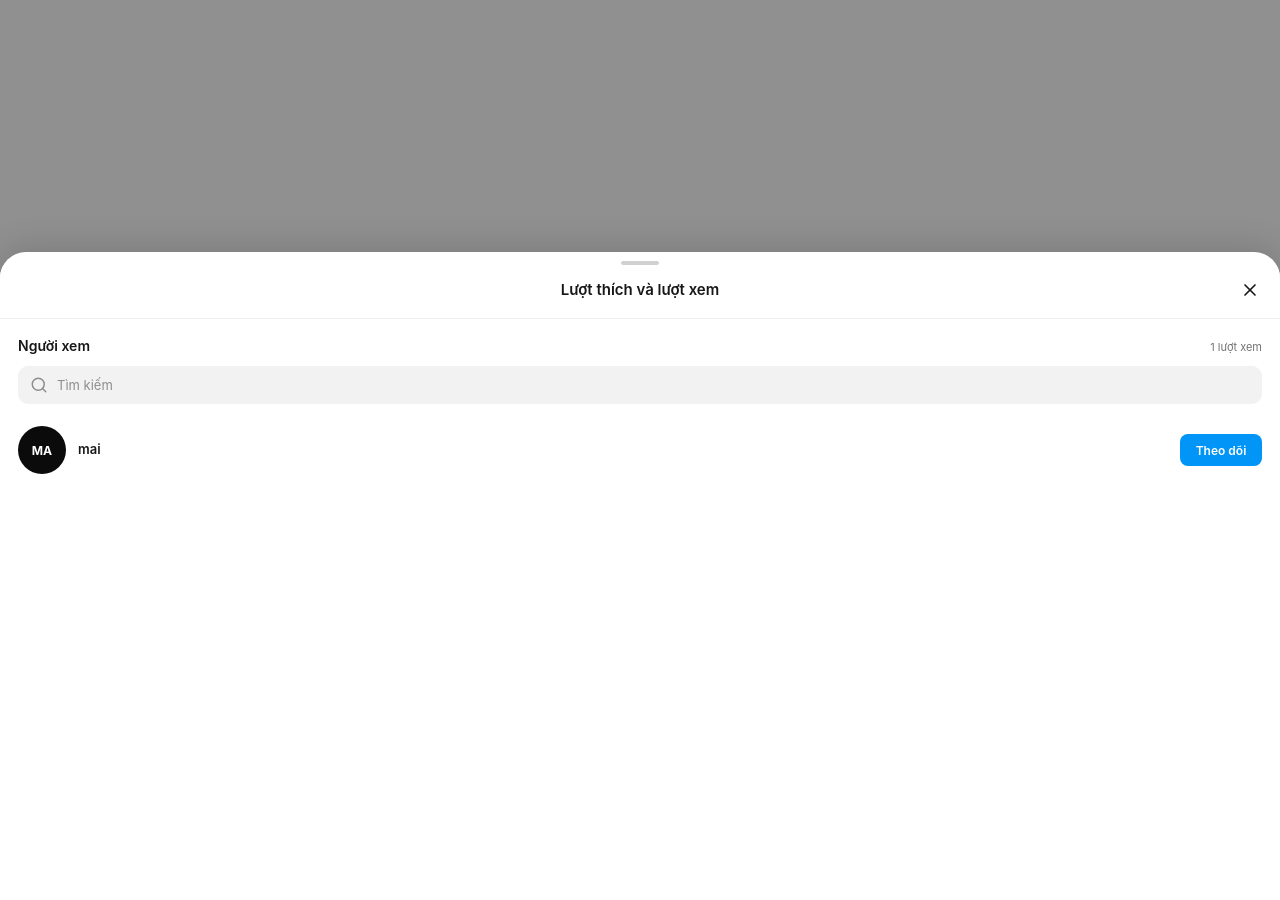
StoryViewersPanel › keeps the relationship unchanged when following fails
Click the button with aria-label "Theo dõi mai" at {"x": 1221, "y": 450}, box [1180,434,1262,466]
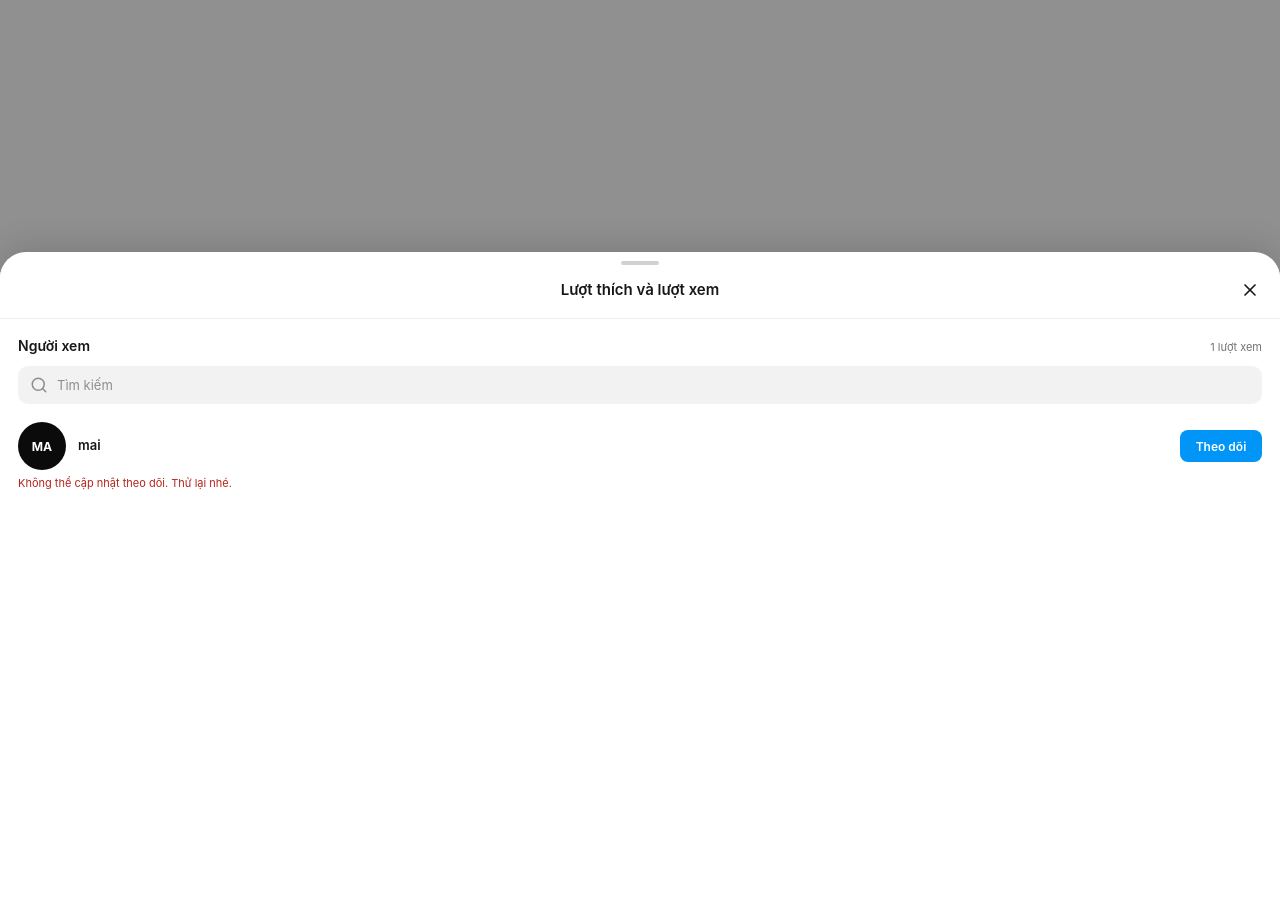
Expected: the message reads "Không thể cập nhật theo dõi. Thử lại nhé.", [18,476,232,490]
